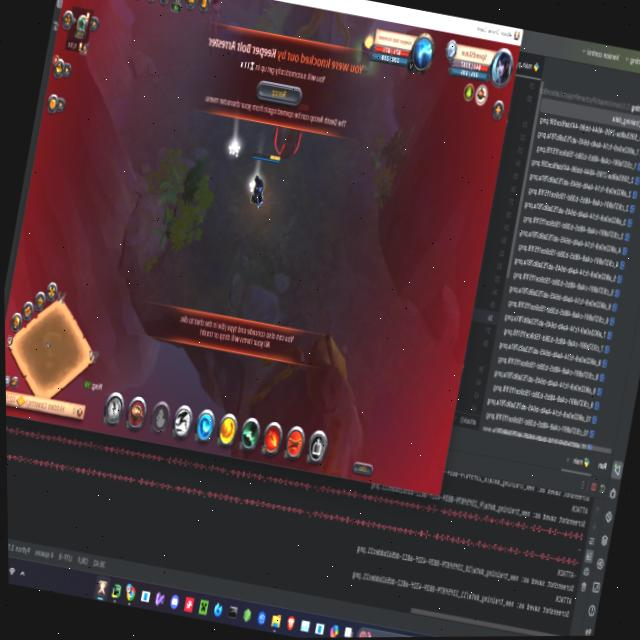fiber: (352, 32, 379, 75)
ore: (267, 95, 316, 163), (197, 0, 230, 65)
red: (238, 146, 284, 219)
stone: (222, 133, 245, 163), (248, 177, 260, 197)
